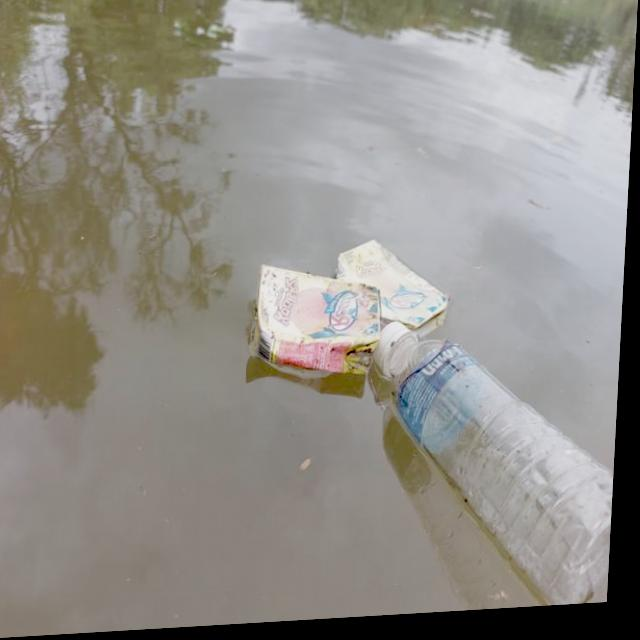paper: (235, 250, 381, 400), (315, 233, 464, 344)
waterbottle: (360, 312, 626, 622)
